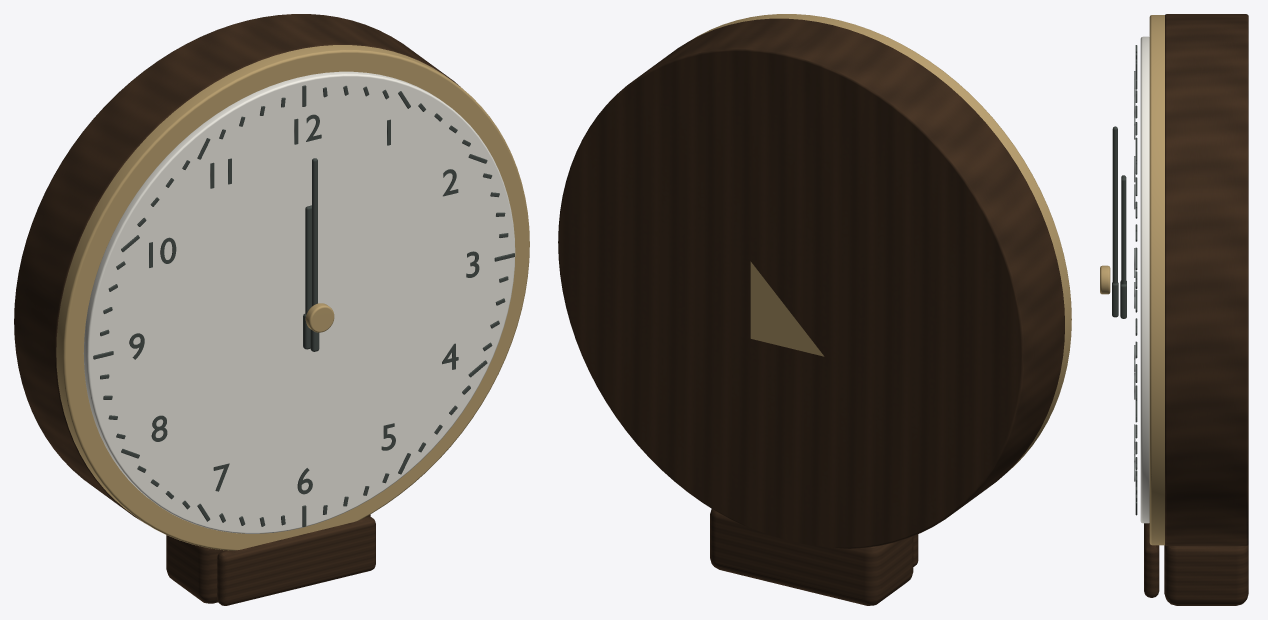
The model's file is wall-clock-316.glb.
3 views of the same model, side by side, from view 1: azimuth 30°, elevation 25°; view 2: azimuth 150°, elevation 25°; view 3: azimuth 270°, elevation 25° (orthographic).
Parts seen in each view (by area): view 1: Clock | enamel face, Merged | Aged champagne brass.006, Merged | Smoked oak | fine vertical grain.005, Clock | compartment cover, Merged | Clock ink, Merged | Clock ink.002, Merged | Clock ink.001; view 2: Merged | Smoked oak | fine vertical grain.005, Merged | Aged champagne brass.006; view 3: Merged | Smoked oak | fine vertical grain.005, Merged | Aged champagne brass.006, Clock | enamel face, Merged | Clock ink, Merged | Clock ink.002, Clock | compartment cover, Merged | Clock ink.001.
Part boxes in pixels (bbox=[...]): Clock | enamel face: bbox=[83, 71, 515, 533]; Merged | Aged champagne brass.006: bbox=[56, 45, 529, 550]; Merged | Smoked oak | fine vertical grain.005: bbox=[14, 14, 460, 603]; Clock | compartment cover: bbox=[217, 516, 375, 605]; Merged | Clock ink: bbox=[93, 85, 514, 526]; Merged | Clock ink.002: bbox=[310, 158, 319, 351]; Merged | Clock ink.001: bbox=[303, 205, 311, 349]; Merged | Smoked oak | fine vertical grain.005: bbox=[558, 18, 1064, 605]; Merged | Aged champagne brass.006: bbox=[692, 14, 1071, 469]; Merged | Smoked oak | fine vertical grain.005: bbox=[1164, 14, 1248, 605]; Merged | Aged champagne brass.006: bbox=[1100, 15, 1164, 545]; Clock | enamel face: bbox=[1140, 36, 1149, 523]; Merged | Clock ink: bbox=[1134, 45, 1137, 515]; Merged | Clock ink.002: bbox=[1112, 126, 1118, 317]; Clock | compartment cover: bbox=[1144, 523, 1159, 597]; Merged | Clock ink.001: bbox=[1120, 175, 1126, 318].
Size of the model in its own units: 0.63 by 0.6925 by 0.182.
4 materials, 1 textured.
